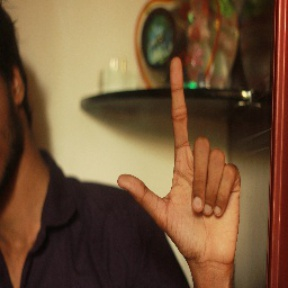L: (119, 55, 247, 260)
